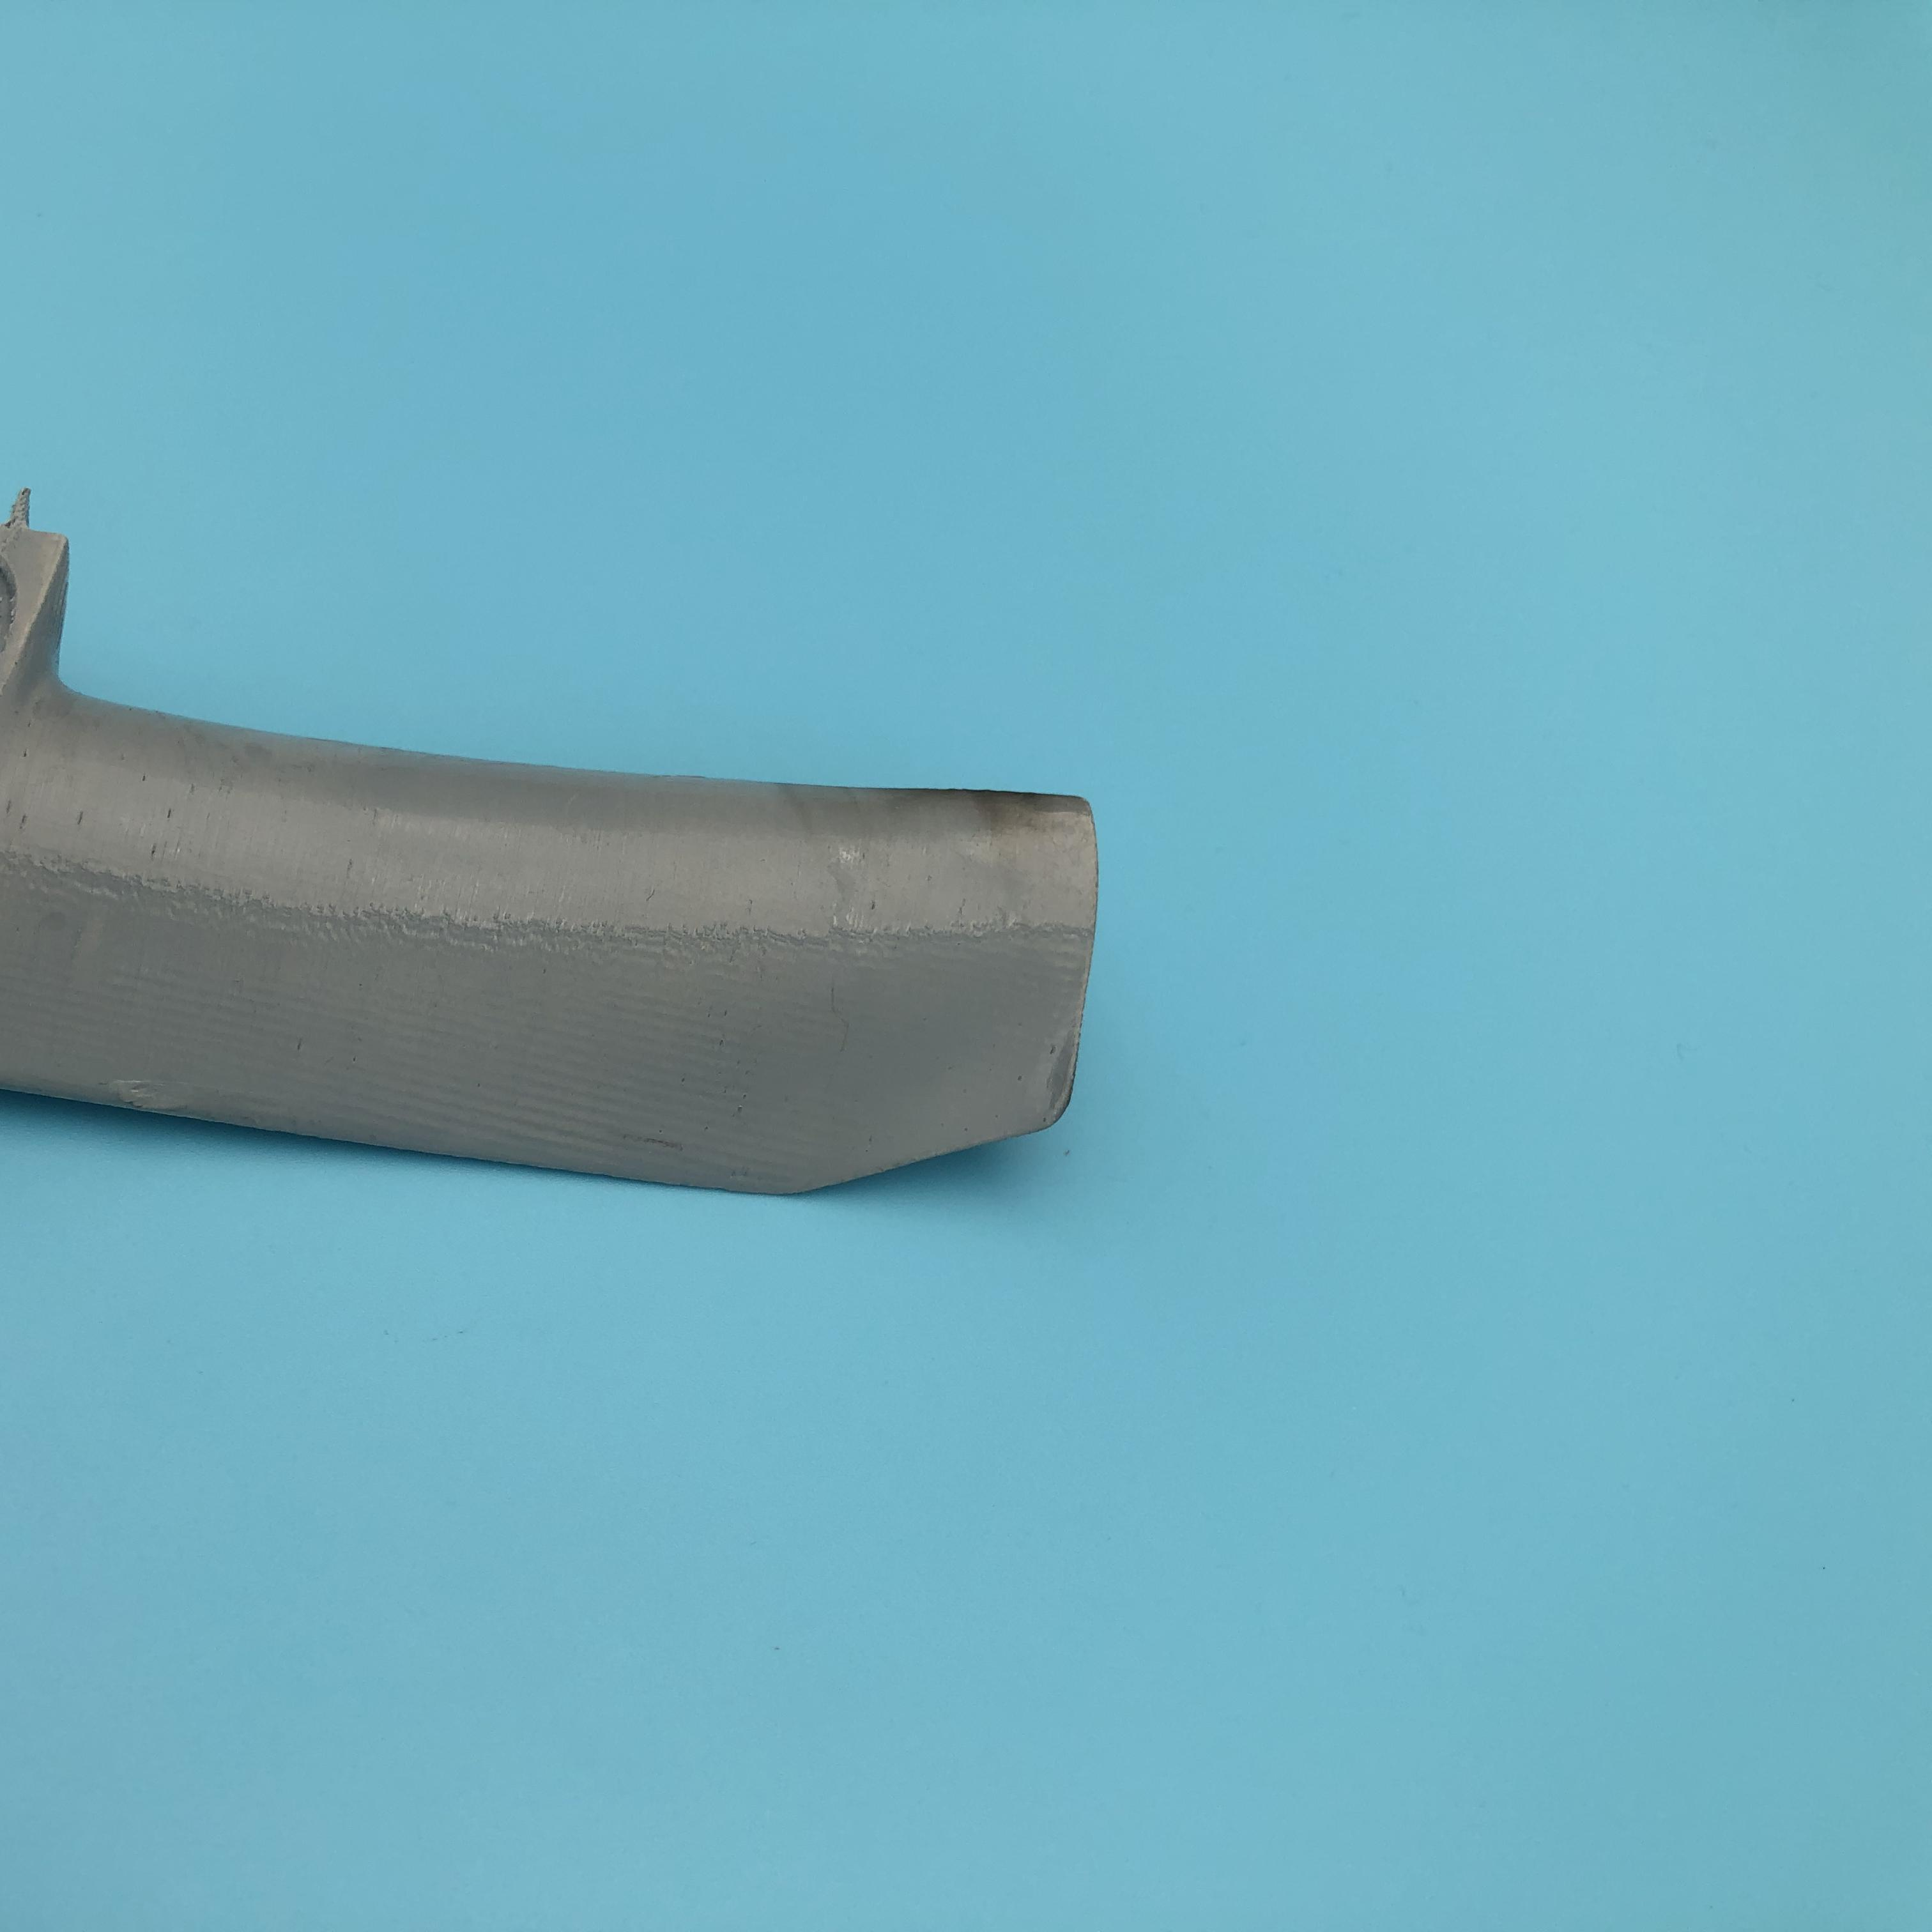ablation: (798, 782, 1085, 844), (1044, 1012, 1086, 1134)
